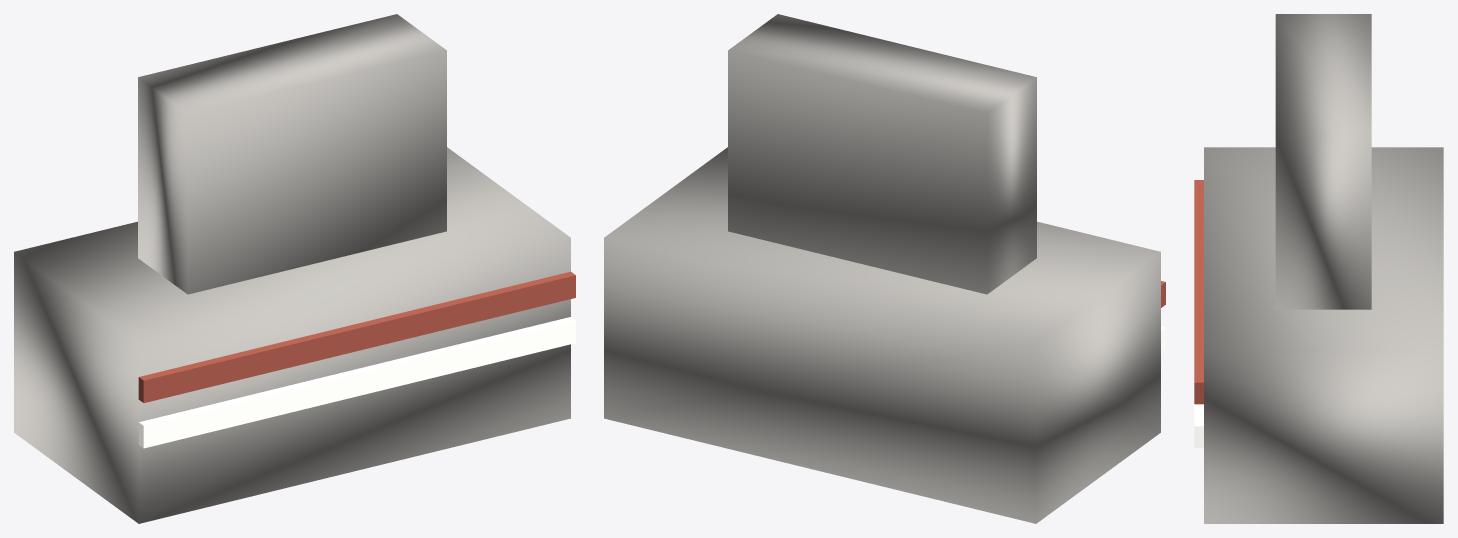
The model's file is barrier_concrete.glb.
3 renders of one model, left to right at view 1: azimuth 30°, elevation 25°; view 2: azimuth 150°, elevation 25°; view 3: azimuth 270°, elevation 25°, orthographic. The views are drawn at different scales.
Parts seen in each view (by area): view 1: merged_concrete_grey, stripe_red, stripe_white; view 2: merged_concrete_grey; view 3: merged_concrete_grey, stripe_red, stripe_white.
Boxes of the visible parts, bbox=[...] form: merged_concrete_grey: bbox=[14, 14, 570, 523]; stripe_red: bbox=[138, 271, 575, 402]; stripe_white: bbox=[138, 317, 575, 448]; merged_concrete_grey: bbox=[604, 14, 1160, 523]; merged_concrete_grey: bbox=[1204, 14, 1443, 523]; stripe_red: bbox=[1194, 180, 1203, 404]; stripe_white: bbox=[1194, 404, 1203, 447].
Size of the model in its own units: 1 by 0.8 by 0.52.
